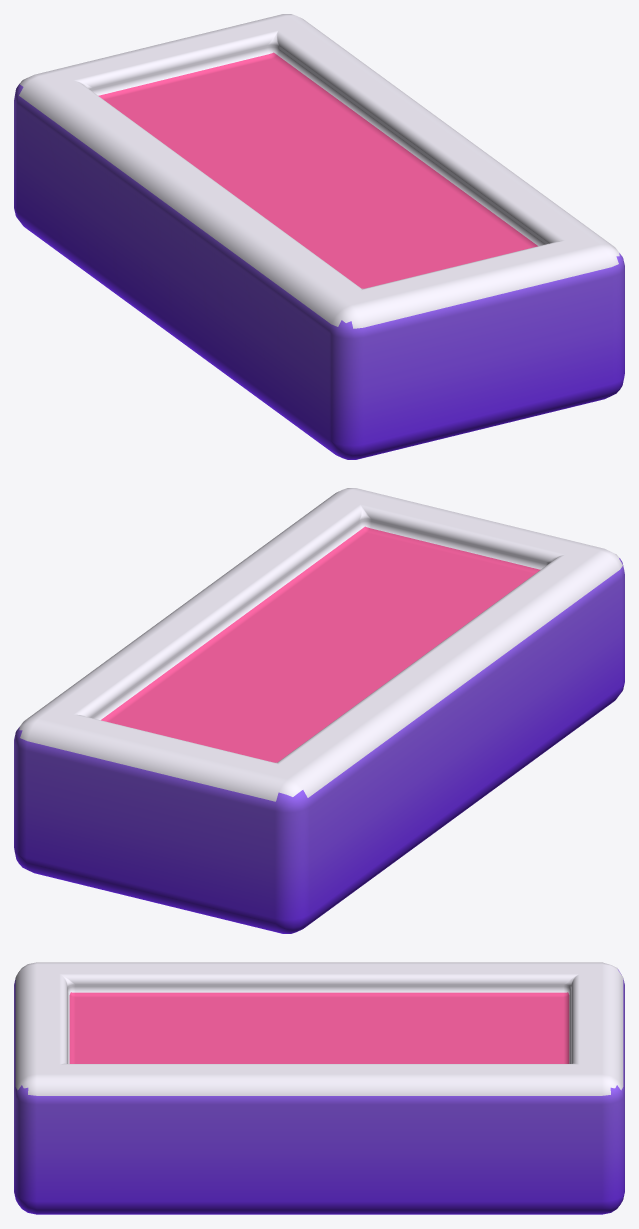
The model's file is platform_2x4.glb.
3 views of the same model, one above another, from view 1: azimuth 30°, elevation 25°; view 2: azimuth 150°, elevation 25°; view 3: azimuth 270°, elevation 25° (orthographic). The views are drawn at different scales.
Parts seen in each view (by area): view 1: platform_2x4; view 2: platform_2x4; view 3: platform_2x4.
Boxes of the visible parts, <box> form: platform_2x4: <box>14,14,624,459</box>; platform_2x4: <box>14,488,624,933</box>; platform_2x4: <box>14,962,624,1214</box>.
Size of the model in its own units: 2 by 1 by 4.
Materials: 1 (1 with a texture image).
